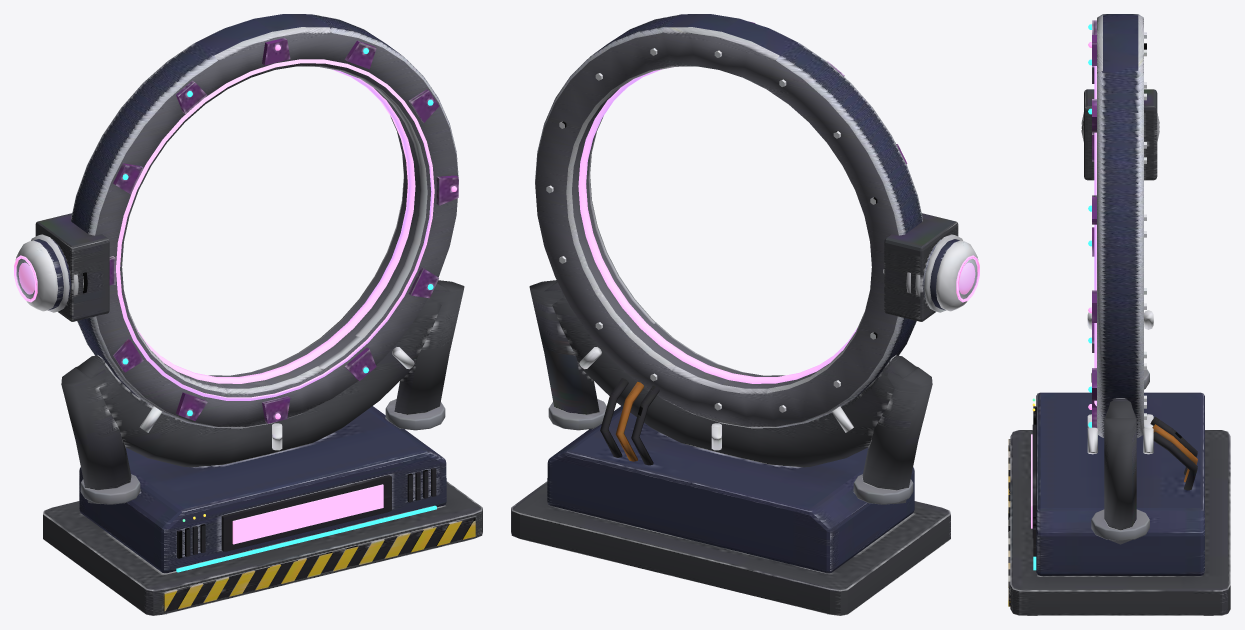
The model's file is light_ring.glb.
3 renders of one model, left to right at view 1: azimuth 30°, elevation 25°; view 2: azimuth 150°, elevation 25°; view 3: azimuth 270°, elevation 25°, orthographic.
Visible parts, largest first — view 1: body, glow, detail_ring; view 2: body, glow; view 3: body, detail_ring, glow.
Boxes of the visible parts, x1,y1,x2,y2 form: body: (14, 14, 482, 615); glow: (116, 59, 434, 400); detail_ring: (109, 38, 458, 423); body: (511, 14, 979, 615); glow: (578, 69, 857, 383); body: (1008, 14, 1230, 615); detail_ring: (1088, 20, 1096, 427); glow: (1094, 66, 1096, 406).
Size of the model in its own units: 3.42 by 3.8 by 1.51.
8 materials, 1 textured.
